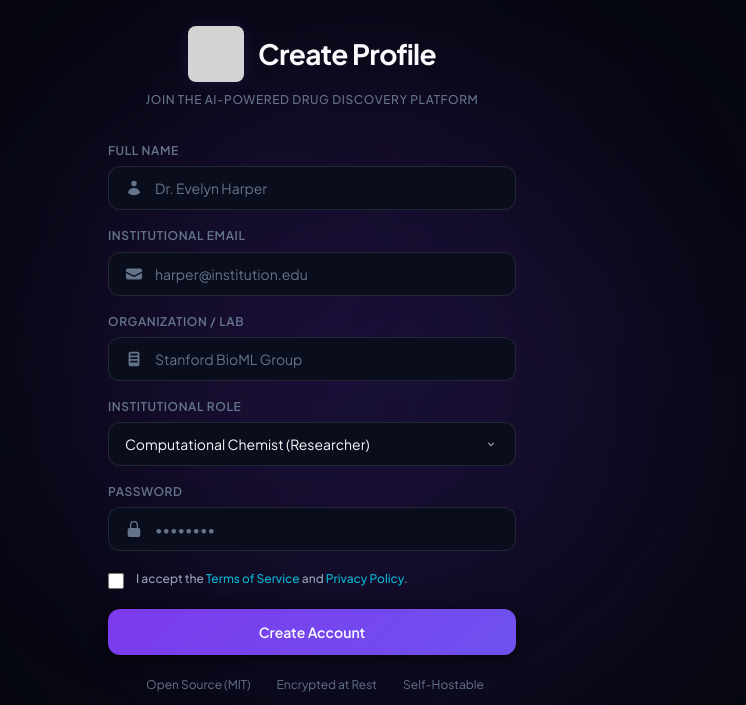
Test: SignupPage › shows password strength meter as the user types
The image size is (746, 705).
Step 1. Type "Sup3rSecret!2026" into the password field labelled "Password" → {"x": 312, "y": 529}, box [109,508,515,550]
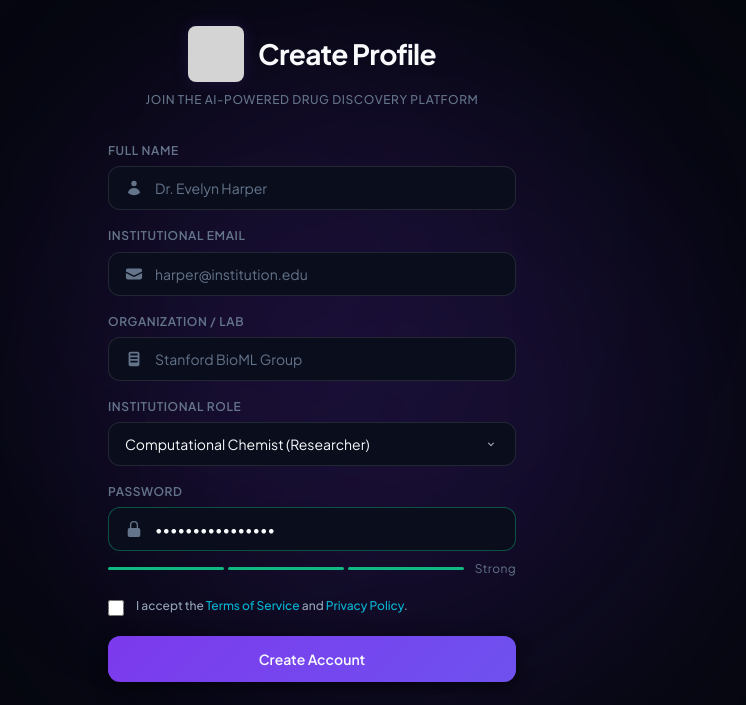
Expected: the text "Strong" is shown, [468,559,516,578]
